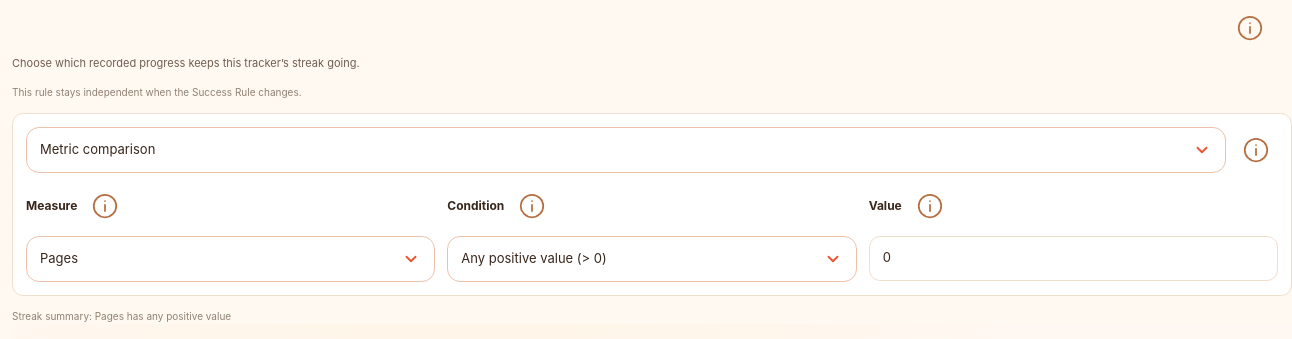
Test: Tracker configuration explanations › offers the preset to quantity, duration, and checklist measures, then resets it for Yes/No
Select "Minutes" in the dropdown named "Measure" at (231, 258), box x1=26 y1=236 x2=435 y2=282
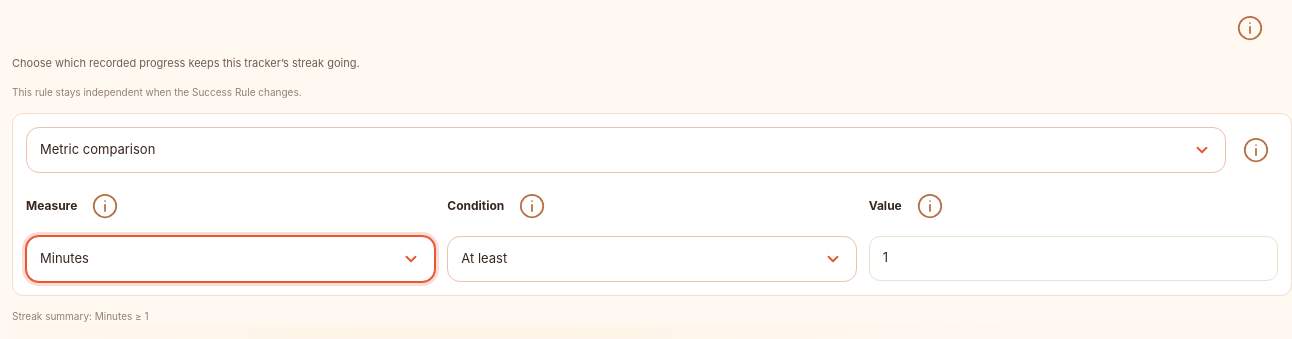
Now the dropdown named "Condition" shows "At least", box x1=447 y1=236 x2=857 y2=282
Select "Steps" in the dropdown named "Measure" at (231, 258), box x1=26 y1=236 x2=435 y2=282
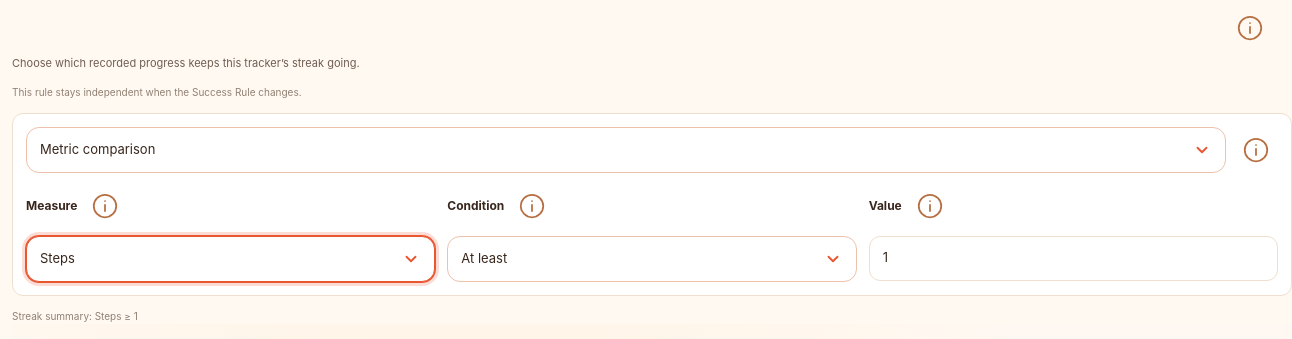
Now the dropdown named "Condition" shows "At least"
Select "Any positive value (> 0)" in the dropdown named "Condition" at (652, 258), box x1=447 y1=236 x2=857 y2=282
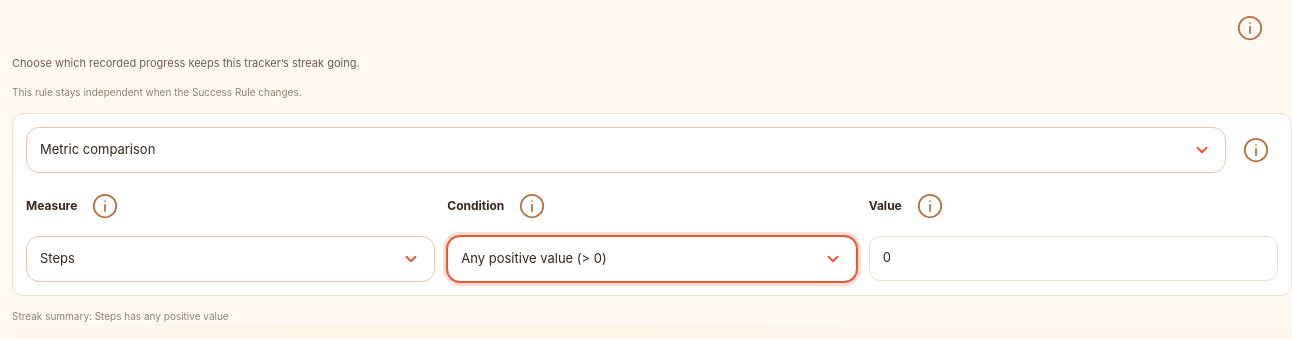
Select "Done" in the dropdown named "Measure" at (231, 258), box x1=26 y1=236 x2=435 y2=282
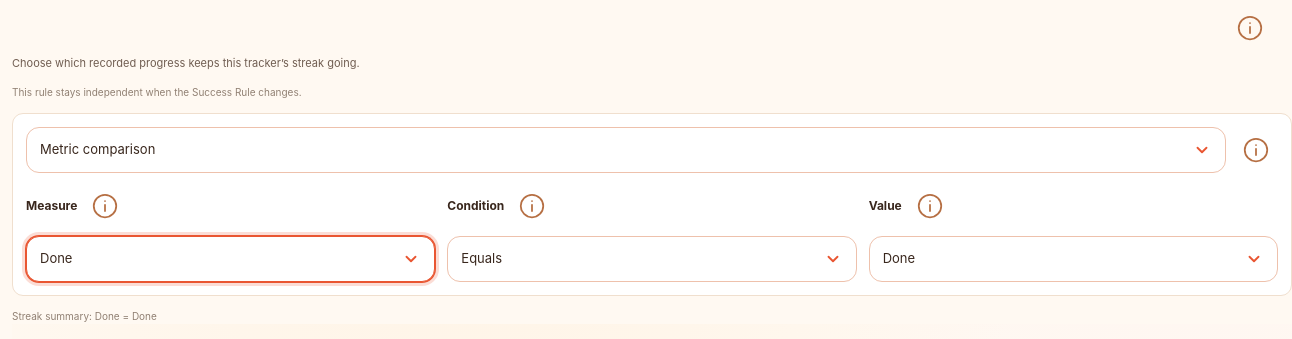
Expected: the option "Any positive value (> 0)" is not shown
Now the dropdown named "Value" shows "Done", box x1=869 y1=236 x2=1278 y2=282
